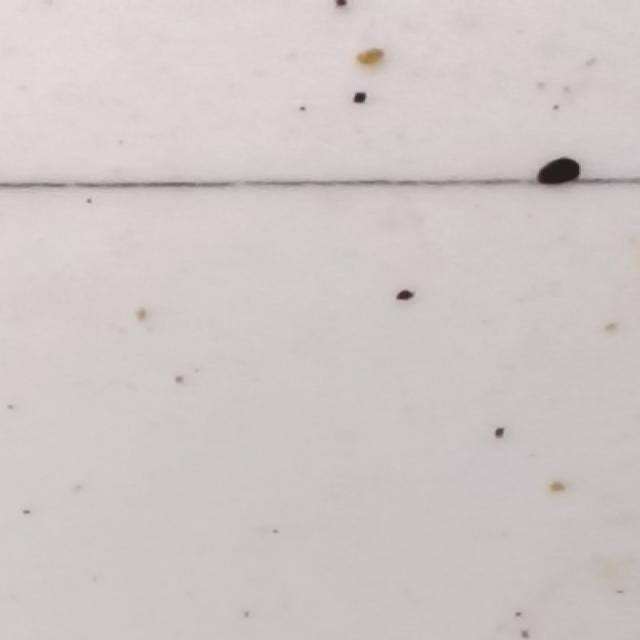varroa: (534, 157, 584, 190)
